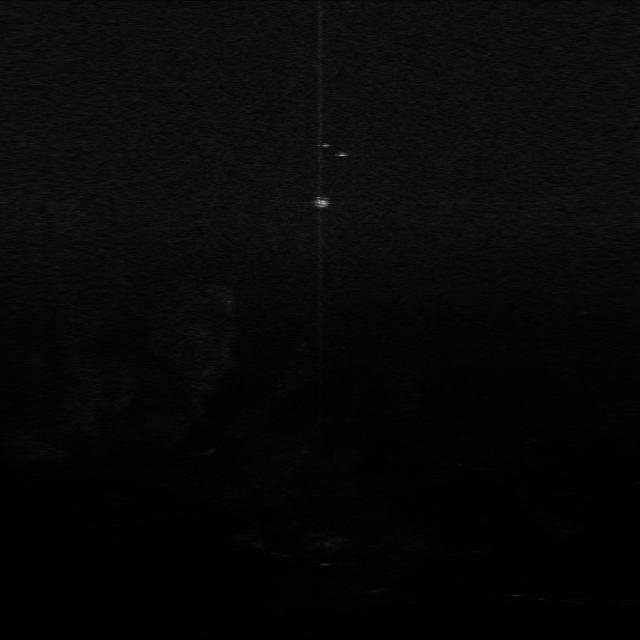rov: (308, 193, 336, 212)
